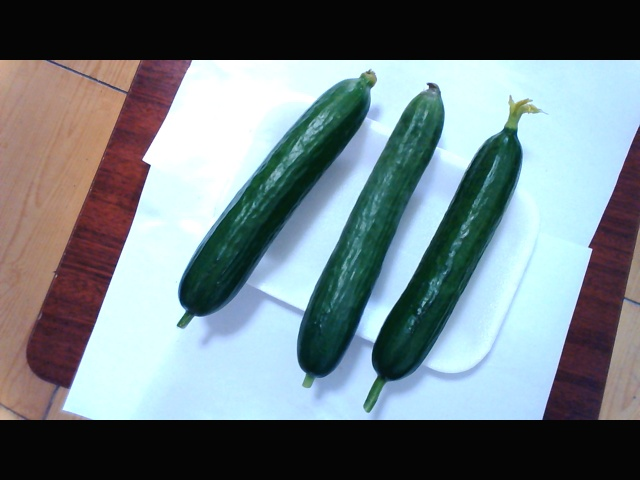cucumber: (310, 100, 529, 403), (153, 69, 349, 326)
